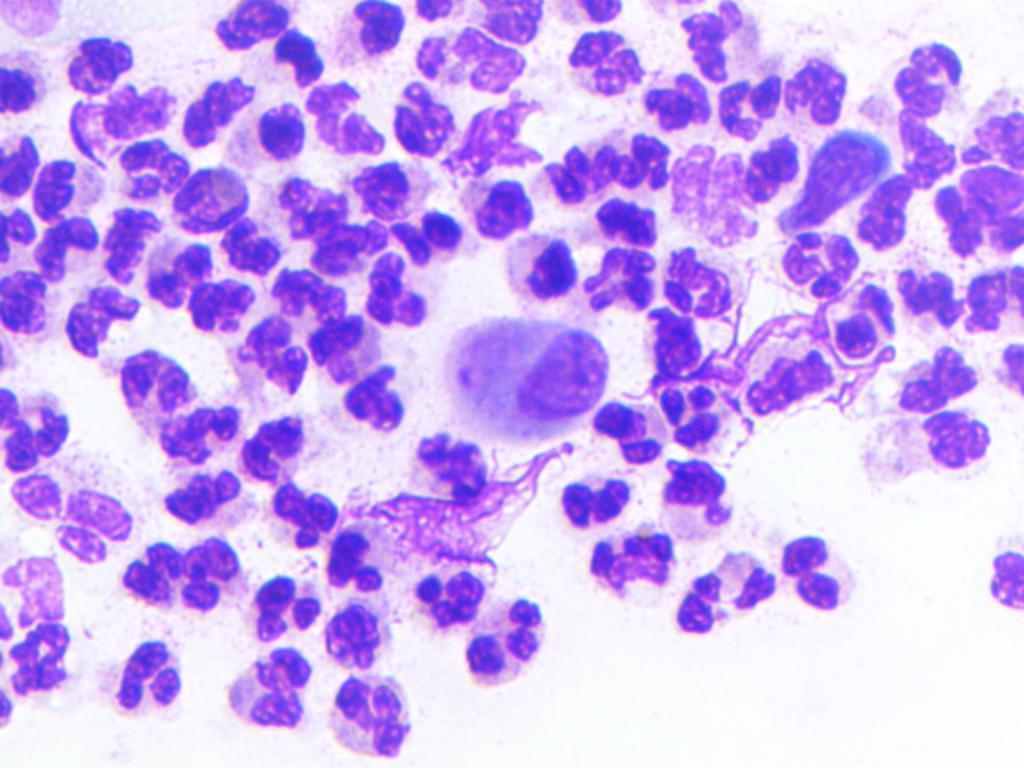epithelial: (167, 160, 254, 240), (912, 410, 992, 479), (59, 488, 138, 554), (11, 460, 64, 532)
goblet_cell: (436, 313, 610, 441)
lymphocyte: (779, 125, 891, 241)
neutrophil: (114, 533, 255, 616), (669, 544, 779, 648), (541, 129, 675, 211), (817, 263, 904, 378), (934, 156, 1024, 267), (1, 364, 79, 492), (62, 72, 178, 157), (412, 22, 547, 94), (226, 302, 317, 404), (324, 670, 425, 760), (173, 56, 260, 160), (222, 641, 320, 732), (647, 454, 759, 531), (887, 30, 970, 128), (101, 631, 193, 719), (883, 242, 968, 336), (764, 47, 861, 129), (464, 595, 549, 688), (349, 250, 438, 338), (878, 341, 981, 417), (555, 22, 649, 105), (101, 342, 200, 420), (142, 402, 255, 470), (587, 524, 672, 614), (58, 275, 141, 364), (377, 74, 462, 158), (702, 64, 785, 150), (655, 378, 738, 464), (768, 228, 867, 300), (583, 238, 662, 328), (779, 526, 863, 610), (266, 474, 353, 554), (627, 58, 714, 138), (157, 461, 253, 532), (315, 588, 396, 672), (328, 366, 415, 444), (318, 516, 393, 604), (239, 405, 323, 483), (648, 251, 745, 318), (208, 208, 291, 286), (31, 204, 111, 284), (137, 232, 219, 310), (31, 152, 117, 226), (419, 550, 490, 638), (590, 401, 672, 476), (7, 614, 78, 700), (354, 147, 433, 224), (505, 228, 578, 311), (269, 176, 360, 242), (462, 164, 537, 244), (583, 184, 668, 254), (265, 263, 352, 331), (414, 431, 498, 501), (672, 7, 748, 84), (313, 309, 386, 388), (251, 574, 326, 648), (892, 108, 957, 192), (391, 212, 476, 276), (861, 162, 925, 243), (202, 0, 298, 53), (737, 130, 799, 210), (65, 32, 141, 96), (986, 518, 1024, 645), (181, 278, 258, 340), (248, 97, 318, 165), (962, 100, 1024, 176), (340, 1, 410, 67), (555, 479, 634, 532), (99, 205, 148, 286), (269, 25, 328, 90), (480, 0, 547, 51), (0, 277, 51, 341), (993, 332, 1024, 409), (0, 202, 37, 261), (0, 71, 44, 116), (550, 0, 628, 24), (412, 0, 461, 27)
